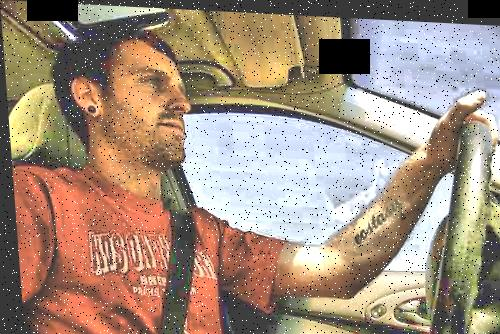seatbelt: (133, 210, 197, 334)
